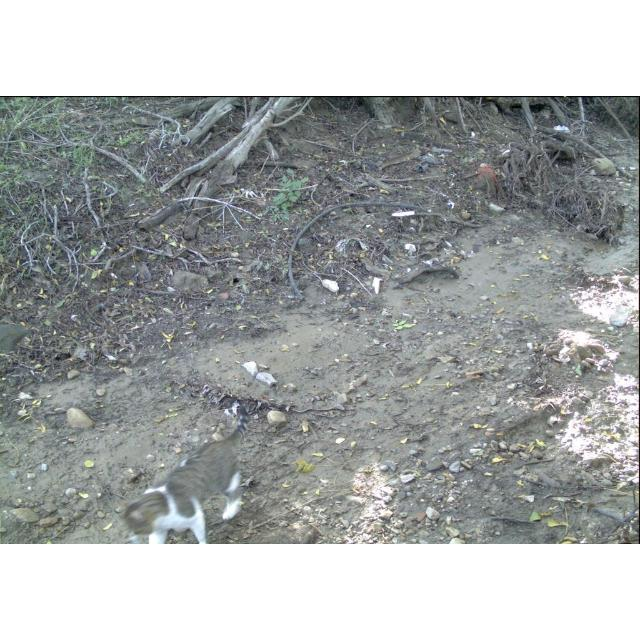animals: (119, 412, 257, 544)
